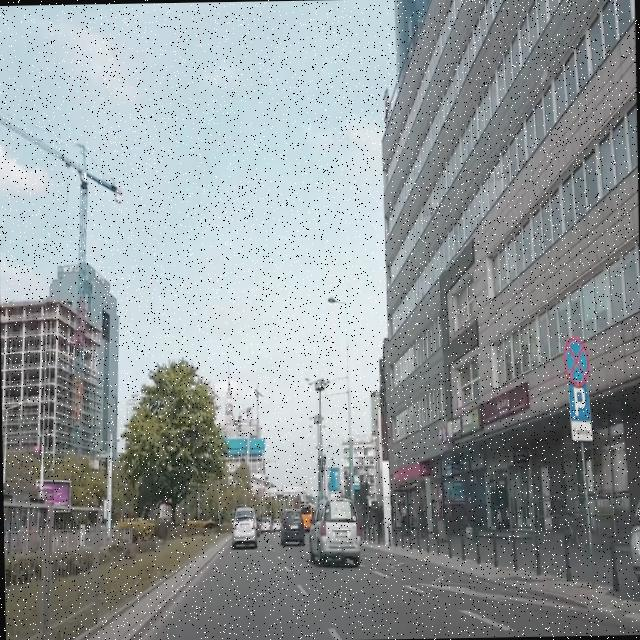Zakaz zatrzymywania sie: (562, 333, 588, 385)
